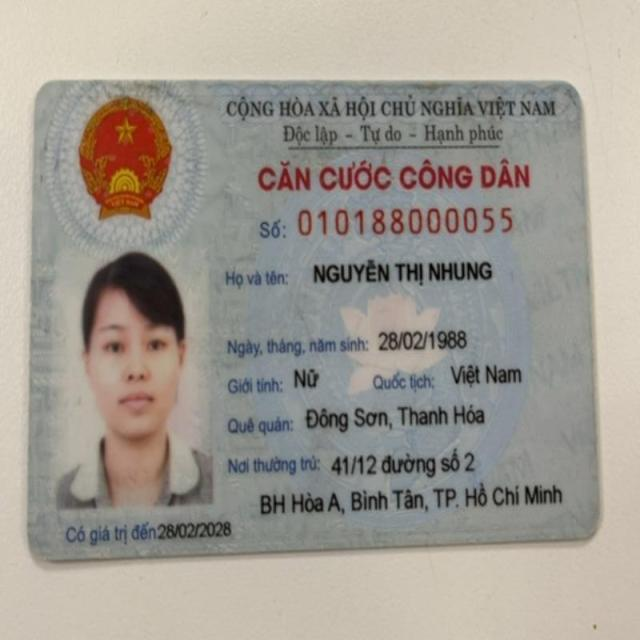current_place: (254, 483, 562, 518), (325, 443, 482, 484)
dob: (372, 325, 468, 355)
expire_date: (156, 517, 234, 542)
gender: (290, 361, 324, 393)
id: (296, 205, 517, 238)
name: (309, 252, 495, 288)
nationality: (447, 360, 526, 396)
origin_place: (300, 399, 492, 431)
